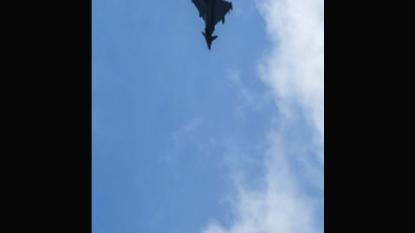E2: (186, 0, 231, 51)
